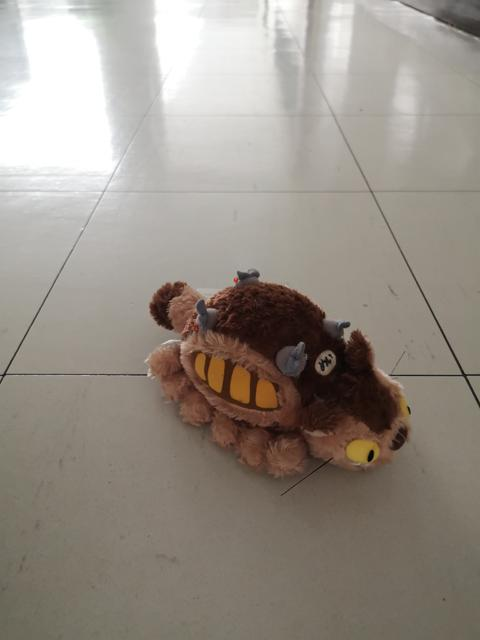nekobus: (139, 265, 424, 508)
